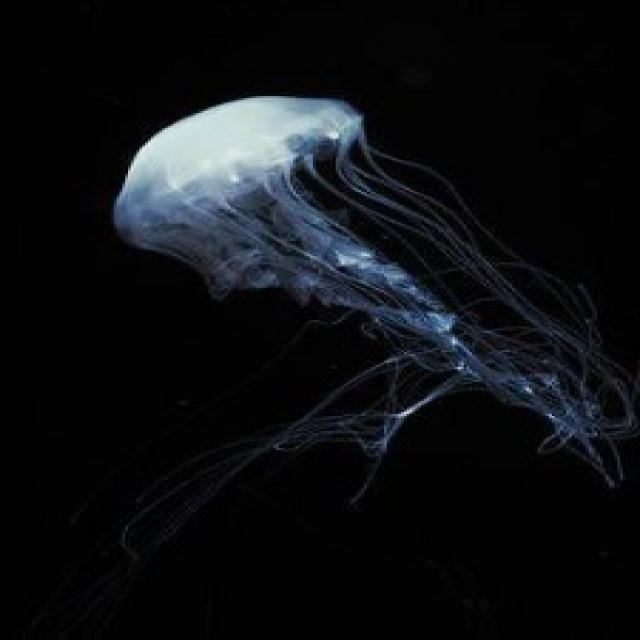Jellyfish: (104, 64, 576, 526)
